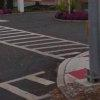Crosswalk: (4, 21, 87, 65)
